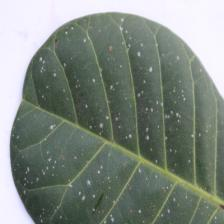red rust: (9, 11, 224, 224)
